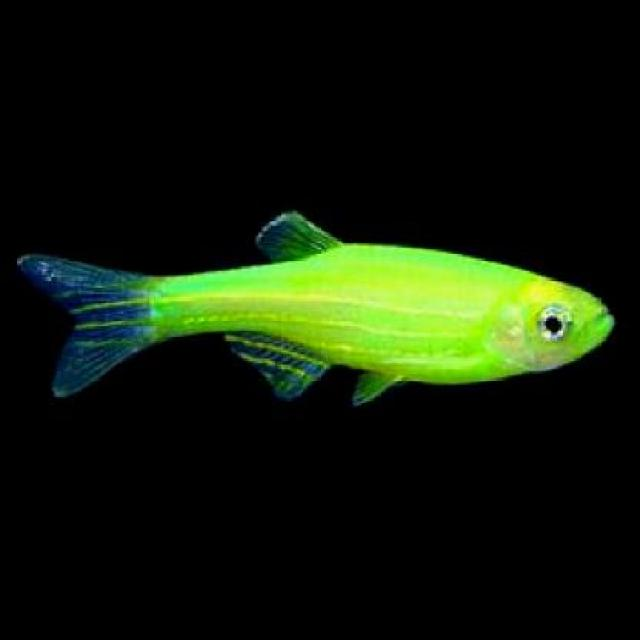ZebraFish: (21, 213, 612, 404)
